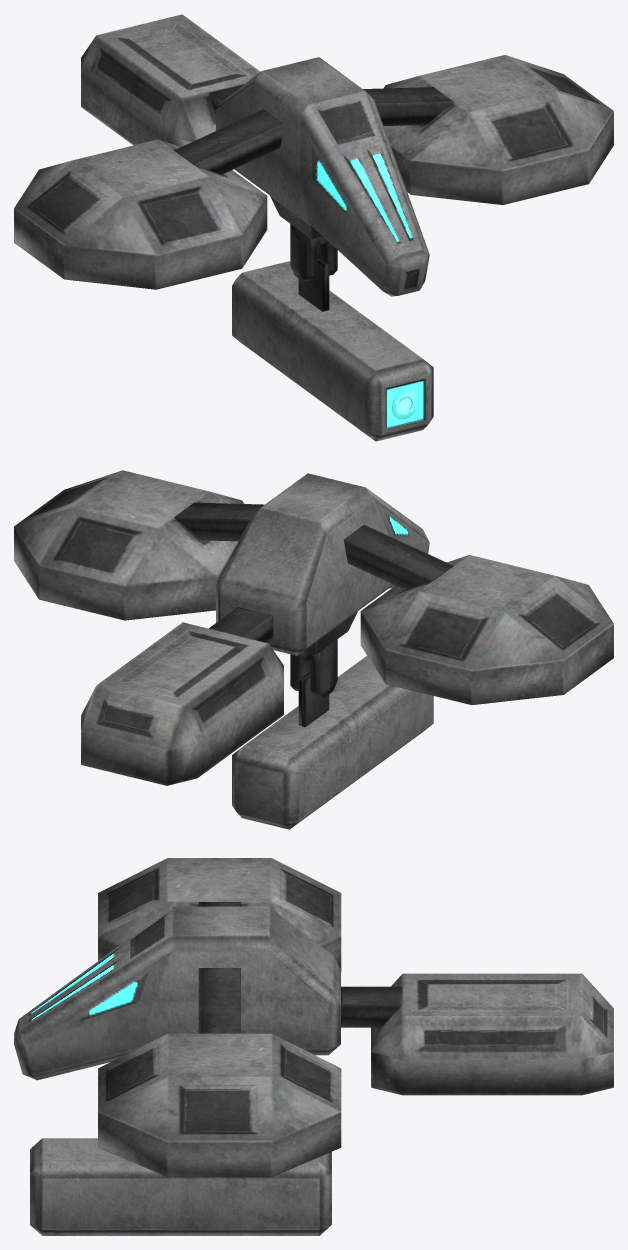
Rendered from drone.fbx.
The picture shows the model from 3 angles, top to bottom: view 1: azimuth 30°, elevation 25°; view 2: azimuth 150°, elevation 25°; view 3: azimuth 270°, elevation 25°; orthographic projection. The views are drawn at different scales.
Visible parts, largest first — view 1: drone1_pCube1, drone1_pCube2_group1_pCube7, pCube2; view 2: drone1_pCube1, drone1_pCube2_group1_pCube7, pCube2; view 3: drone1_pCube1, drone1_pCube2_group1_pCube7.
Boxes of the visible parts, bbox=[...] form: drone1_pCube1: bbox=[14, 14, 613, 296]; drone1_pCube2_group1_pCube7: bbox=[232, 256, 433, 441]; pCube2: bbox=[290, 224, 337, 281]; drone1_pCube1: bbox=[14, 470, 613, 785]; drone1_pCube2_group1_pCube7: bbox=[232, 656, 433, 829]; pCube2: bbox=[290, 639, 337, 697]; drone1_pCube1: bbox=[14, 858, 613, 1177]; drone1_pCube2_group1_pCube7: bbox=[30, 1138, 331, 1235].
Bounding box in the file's own units: 4.76 × 2.41 × 4.33.
